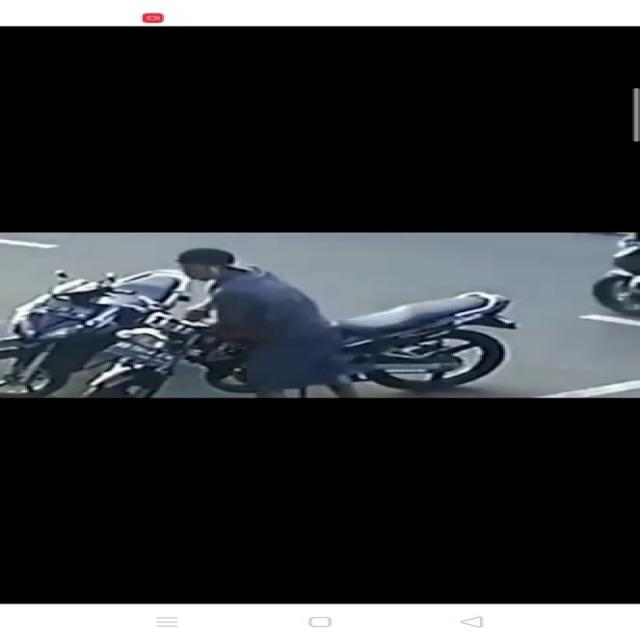pencurian: (83, 248, 524, 396)
